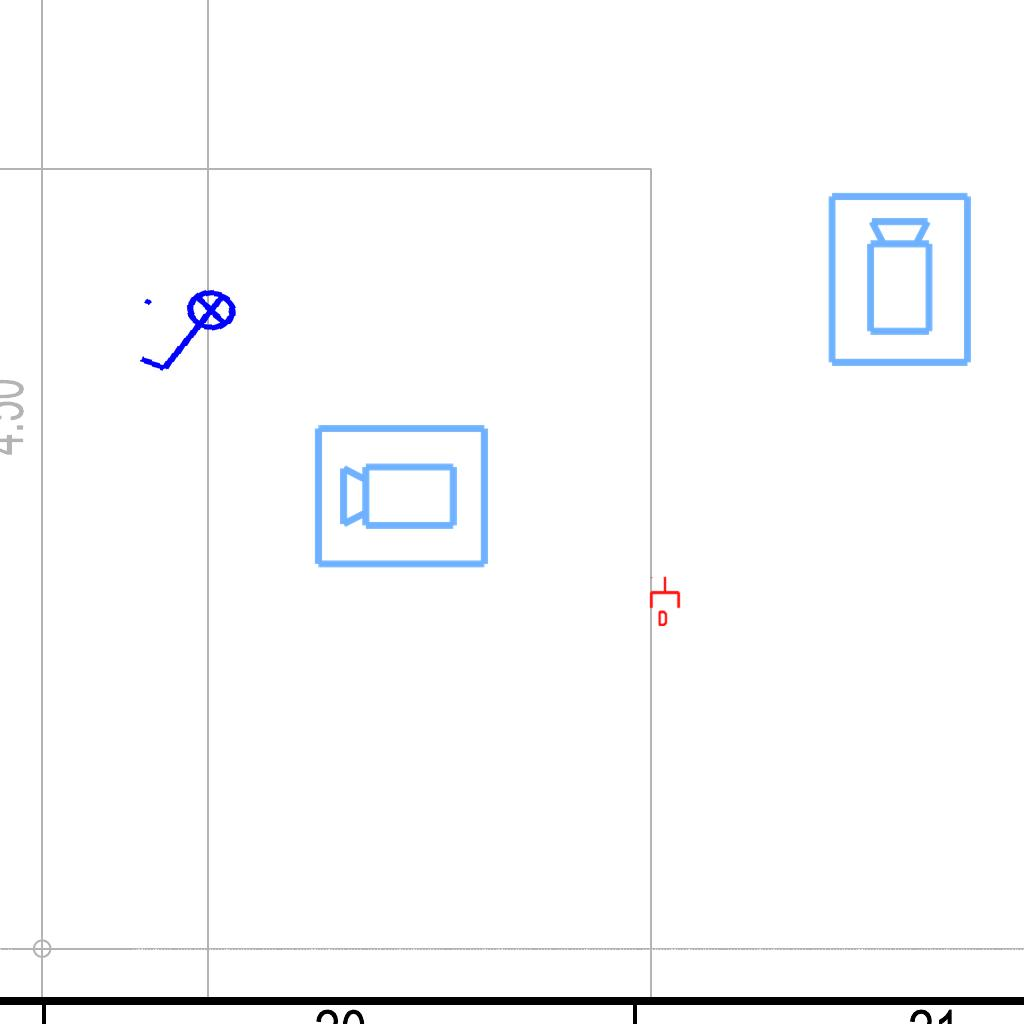Ausschalter_beleuchtet: (129, 279, 253, 389)
Datenanschluss_einfach: (648, 576, 682, 626)
KFO_Kamera_mit_Festobjektiv: (824, 189, 978, 371), (311, 418, 493, 572)
